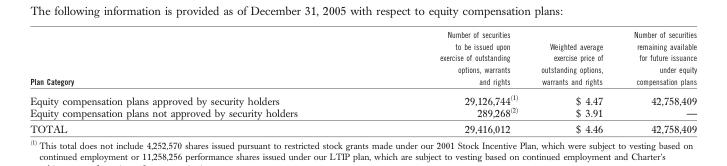table: (29, 29, 696, 135)
table column: (29, 29, 368, 135), (368, 29, 513, 135), (528, 29, 617, 135), (617, 29, 696, 135), (513, 29, 528, 135)
table column header: (29, 29, 696, 105)
table row: (29, 29, 696, 89), (29, 89, 696, 105), (29, 105, 696, 120), (29, 120, 696, 135)
table spanning cell: (29, 29, 368, 105), (368, 29, 528, 89), (528, 29, 617, 105), (617, 29, 696, 105)
